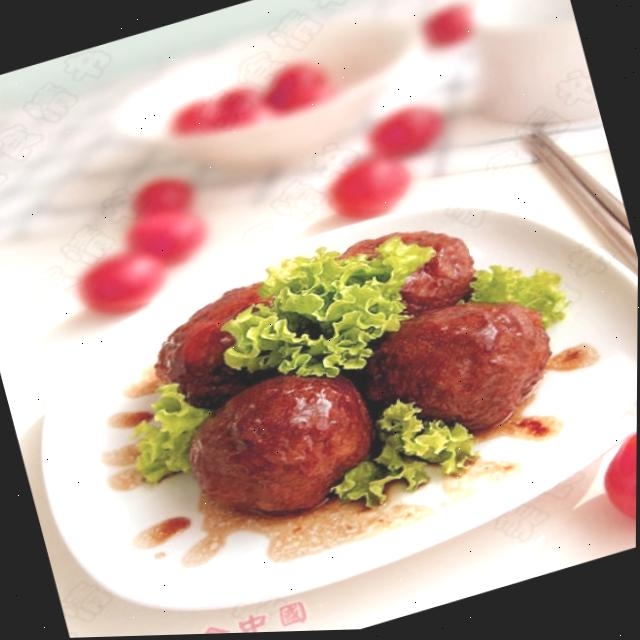猪肉菜式: (35, 118, 639, 639)
